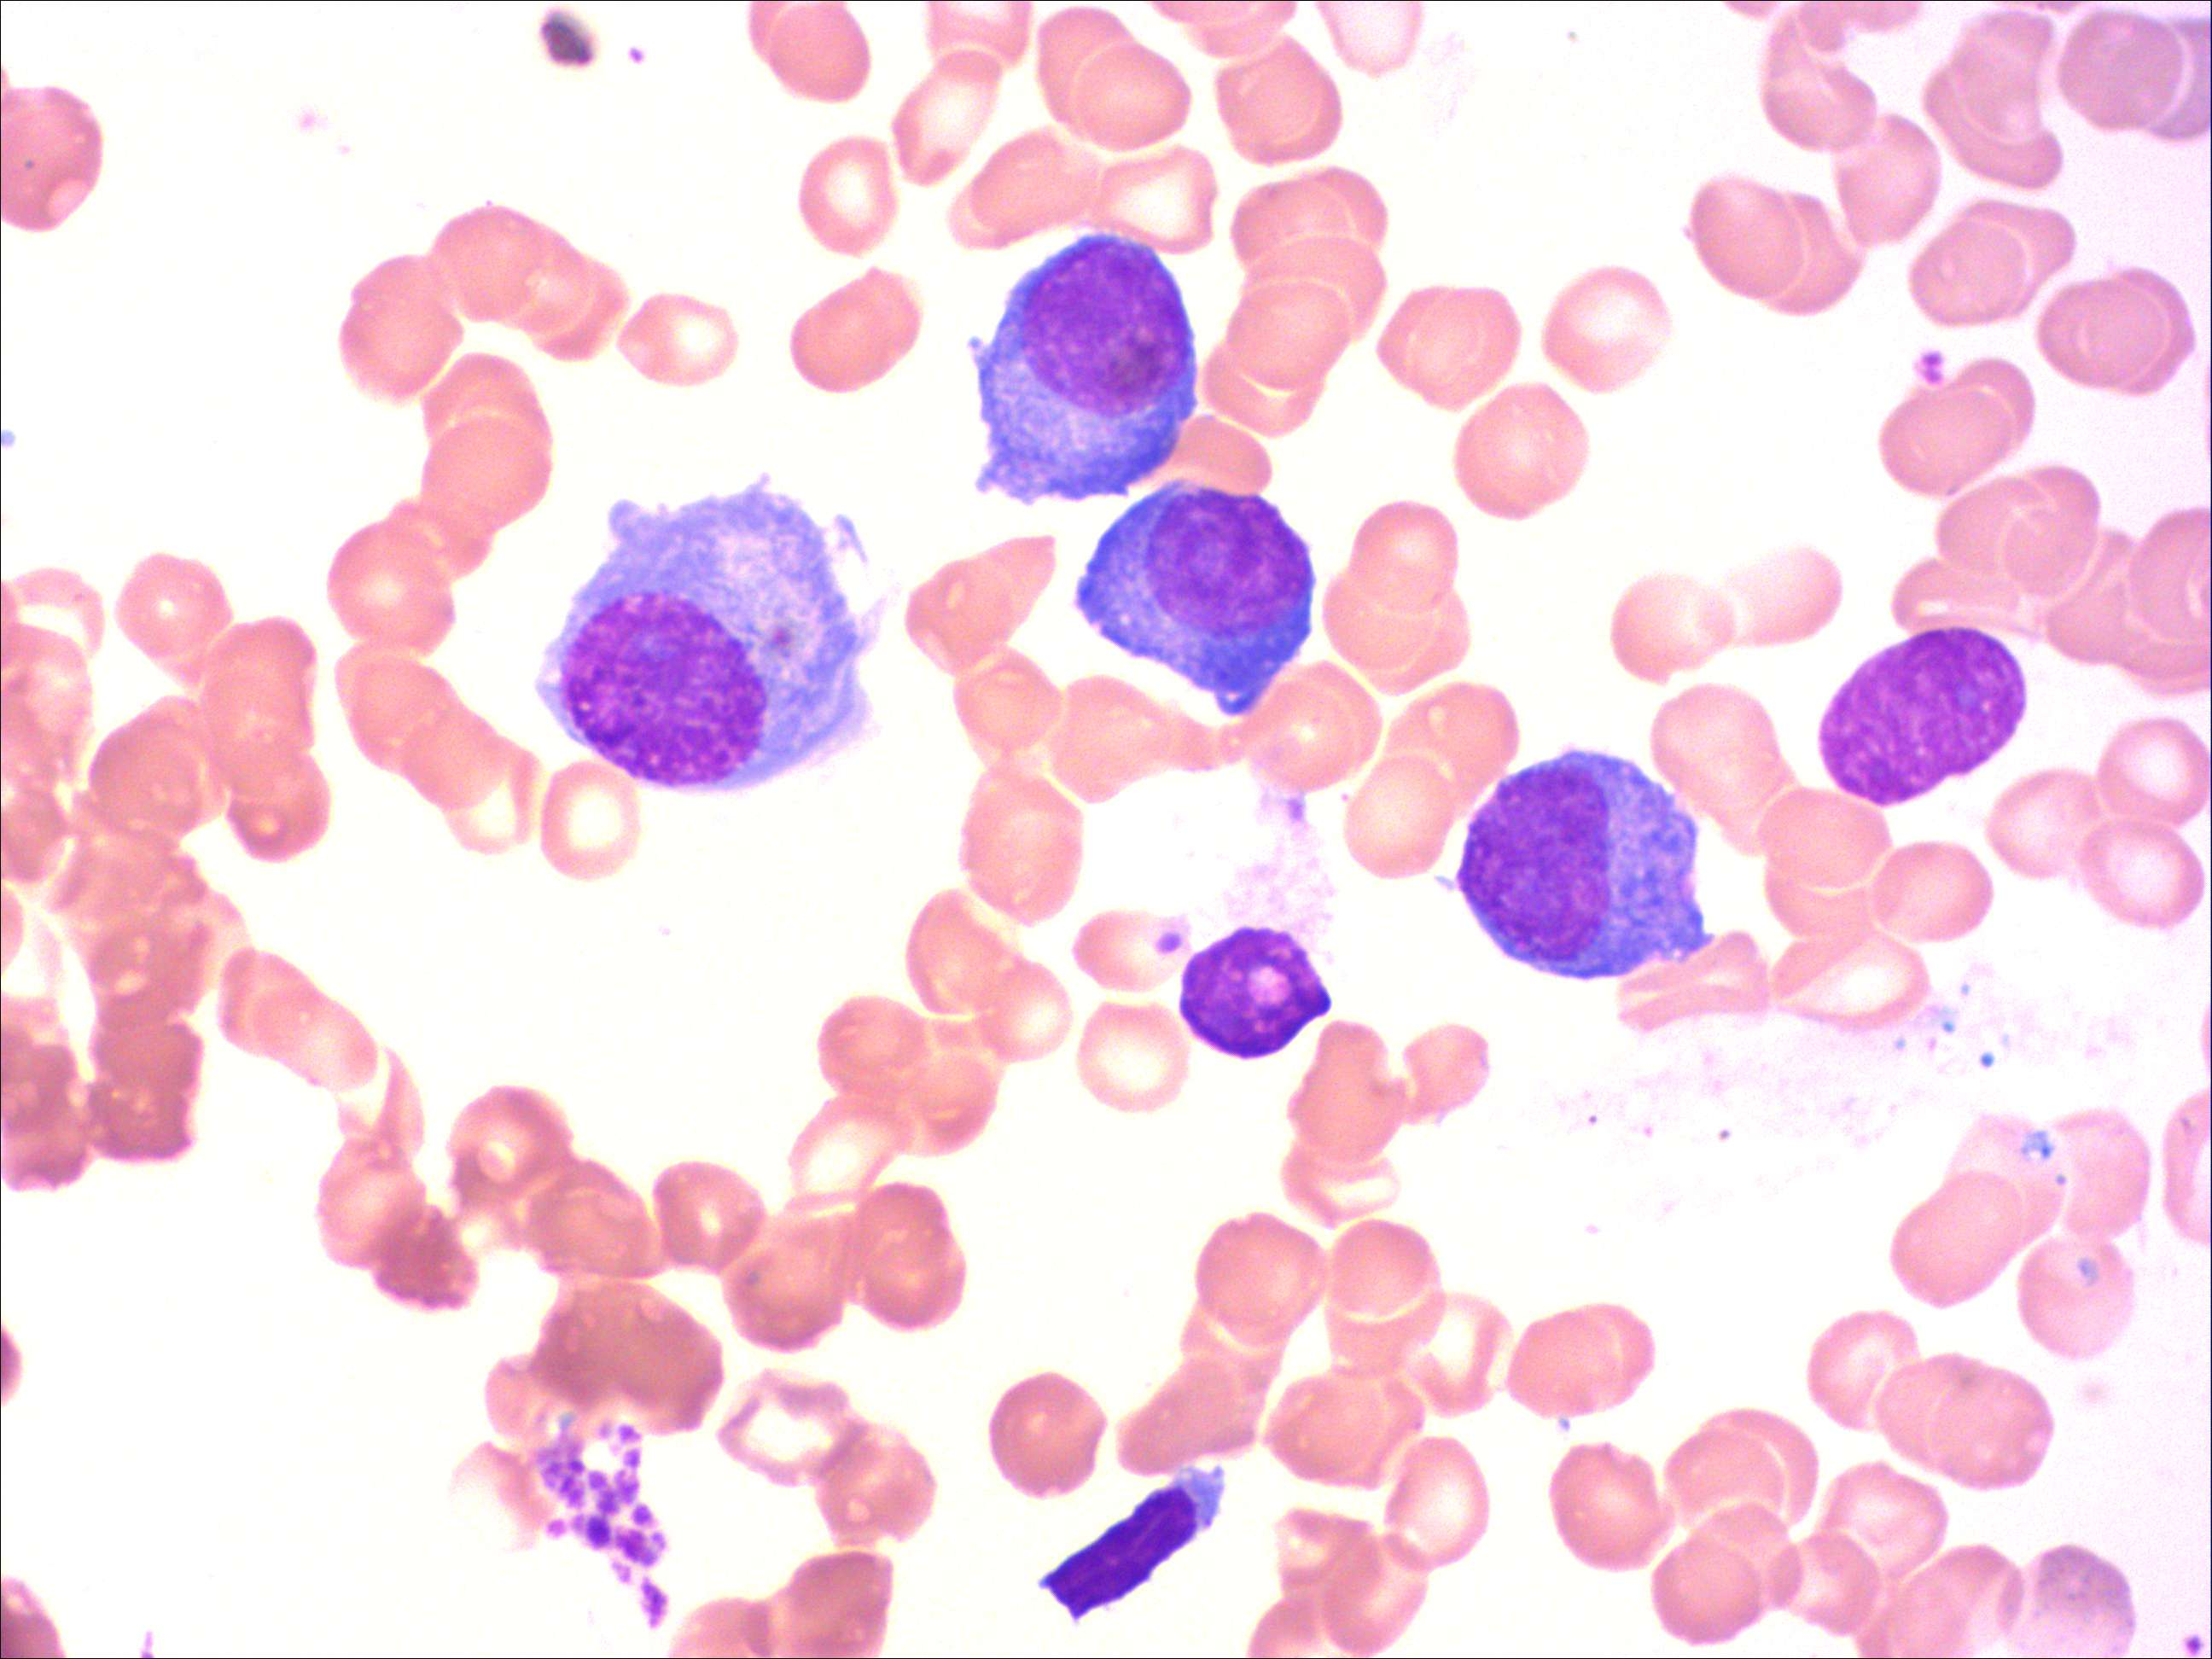51: (528, 465, 900, 805), (961, 221, 1202, 511), (1451, 742, 1721, 988), (1069, 474, 1320, 721)
x: (1813, 619, 2031, 816), (1170, 917, 1334, 1065)
